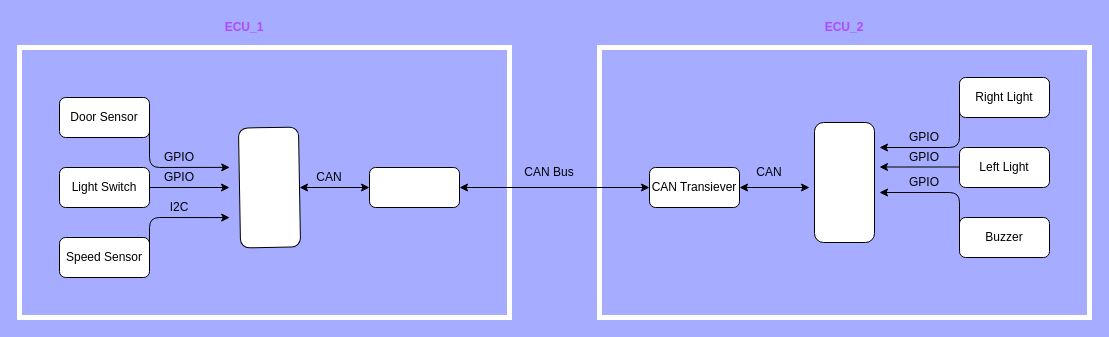
The diagram is 1109 pixels wide and 337 high, and some of its shapes have lost their labels. Each missing label, with the box of its shape:
CAN Transeiver: (368, 166, 460, 208)
MC_1: (237, 126, 300, 248)
MC_2: (814, 122, 874, 242)
